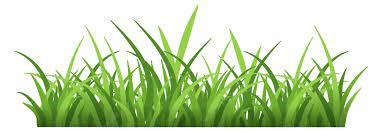grass: (38, 75, 345, 126)
